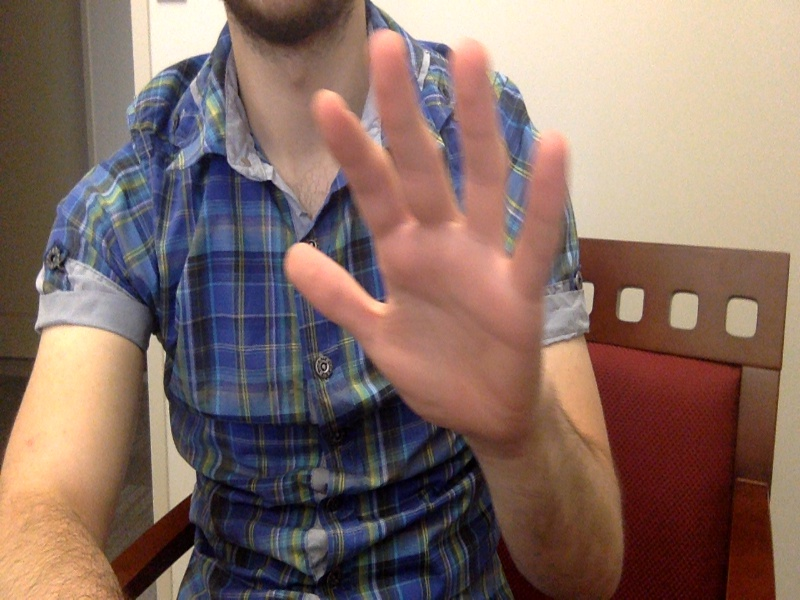5-hand: (284, 30, 571, 451)
